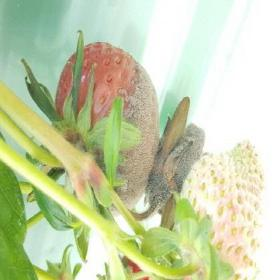Gray Mold: (92, 55, 160, 218), (138, 122, 207, 221)
